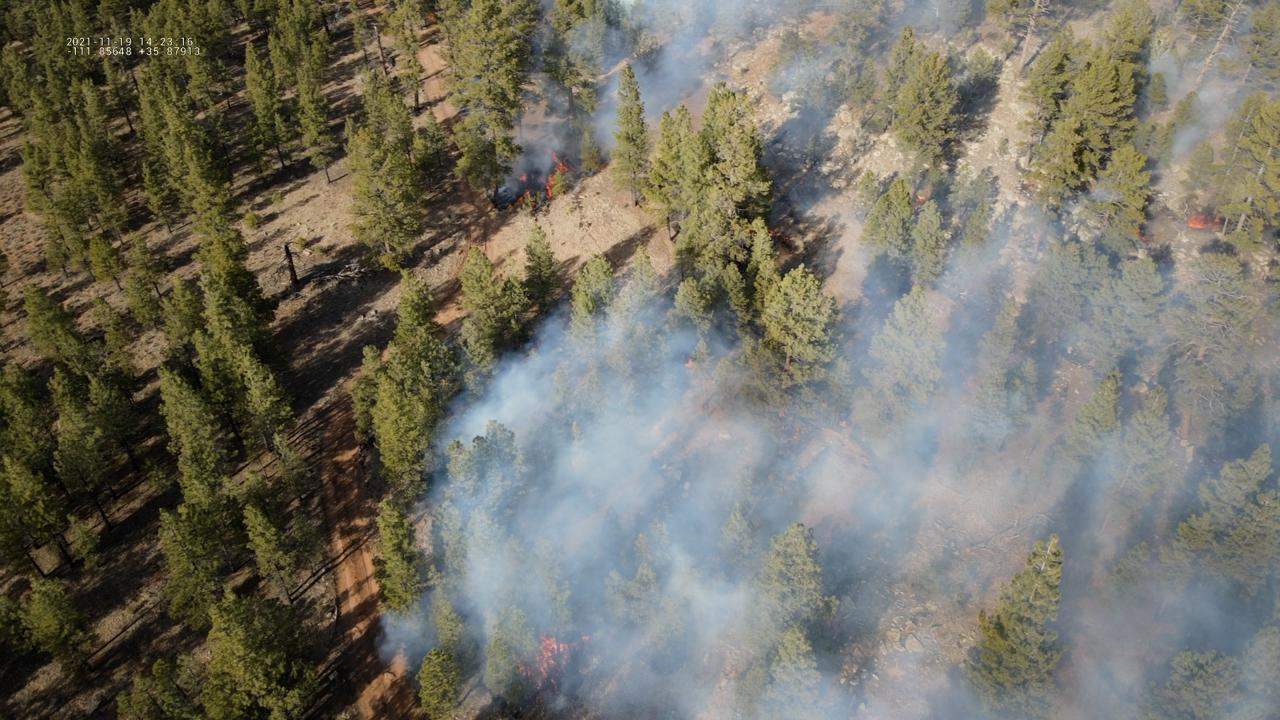fire: (512, 633, 594, 697), (546, 151, 568, 199), (1185, 213, 1222, 231), (515, 190, 530, 203), (1136, 227, 1148, 242), (682, 357, 695, 370), (913, 194, 926, 205), (519, 174, 528, 181), (507, 203, 513, 210)
smoke: (374, 0, 1280, 720)
